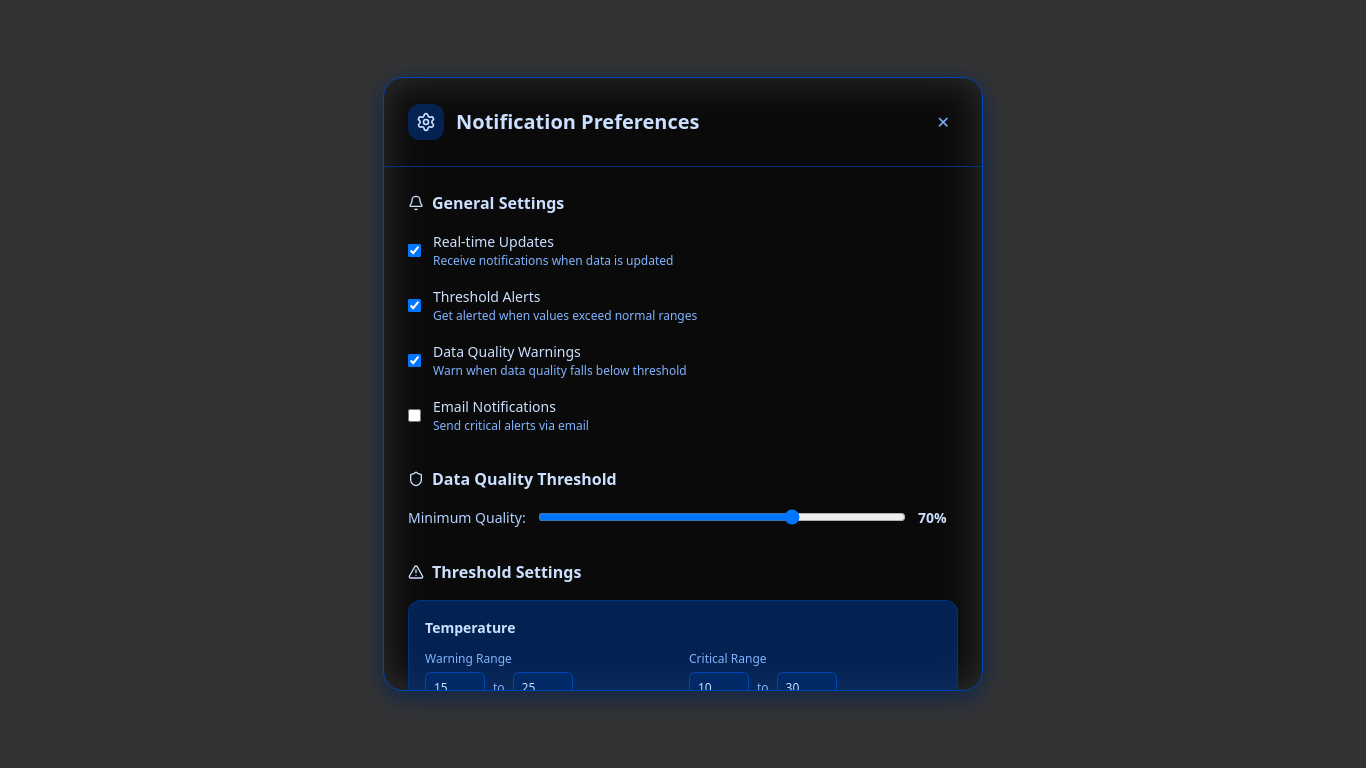
NotificationPreferences › should save changes when save button is clicked
# Make a change
Click the checkbox labelled "Real-time Updates Receive notifications when data is updated": {"x": 414, "y": 250} [408,244,421,257]
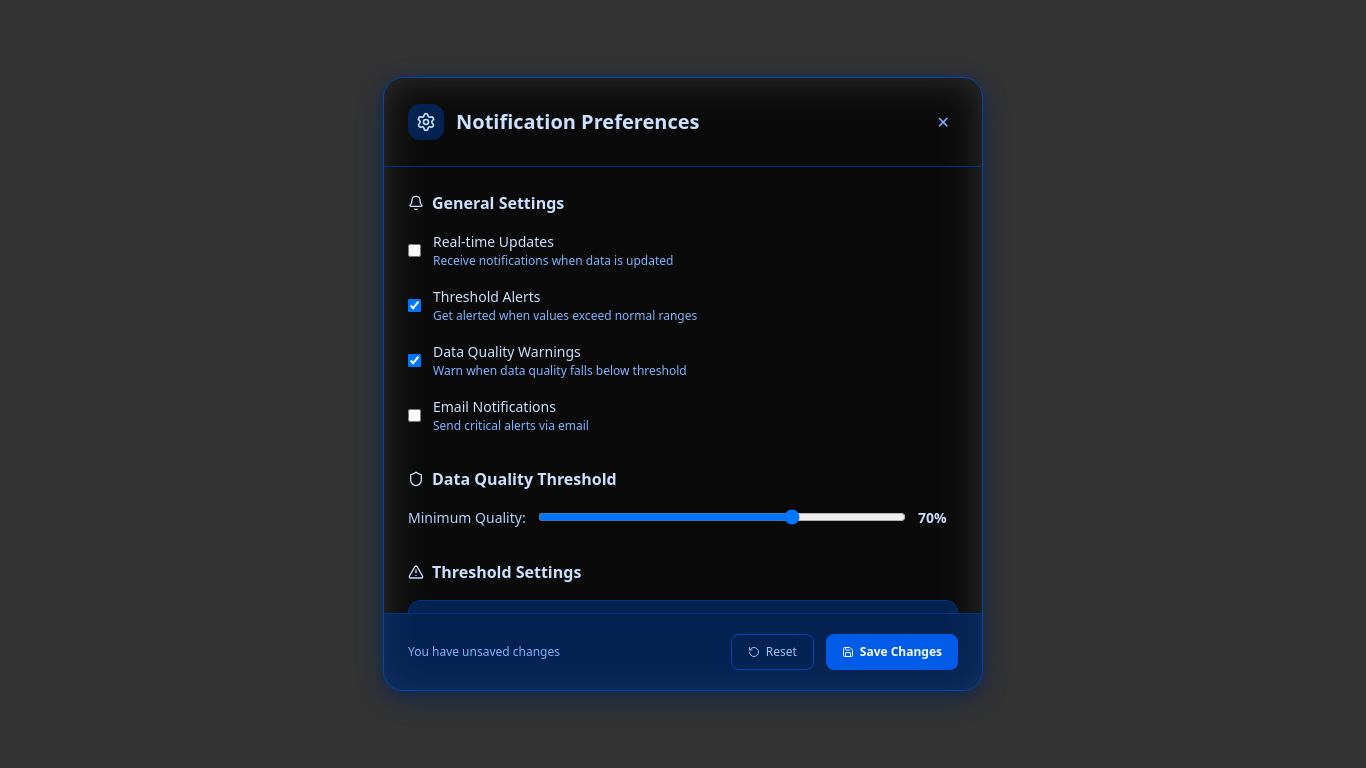
Check: the text "You have unsaved changes" is shown, box [408,643,560,661]
# Save changes
Click the button "Save Changes": {"x": 892, "y": 652} [826,634,958,670]
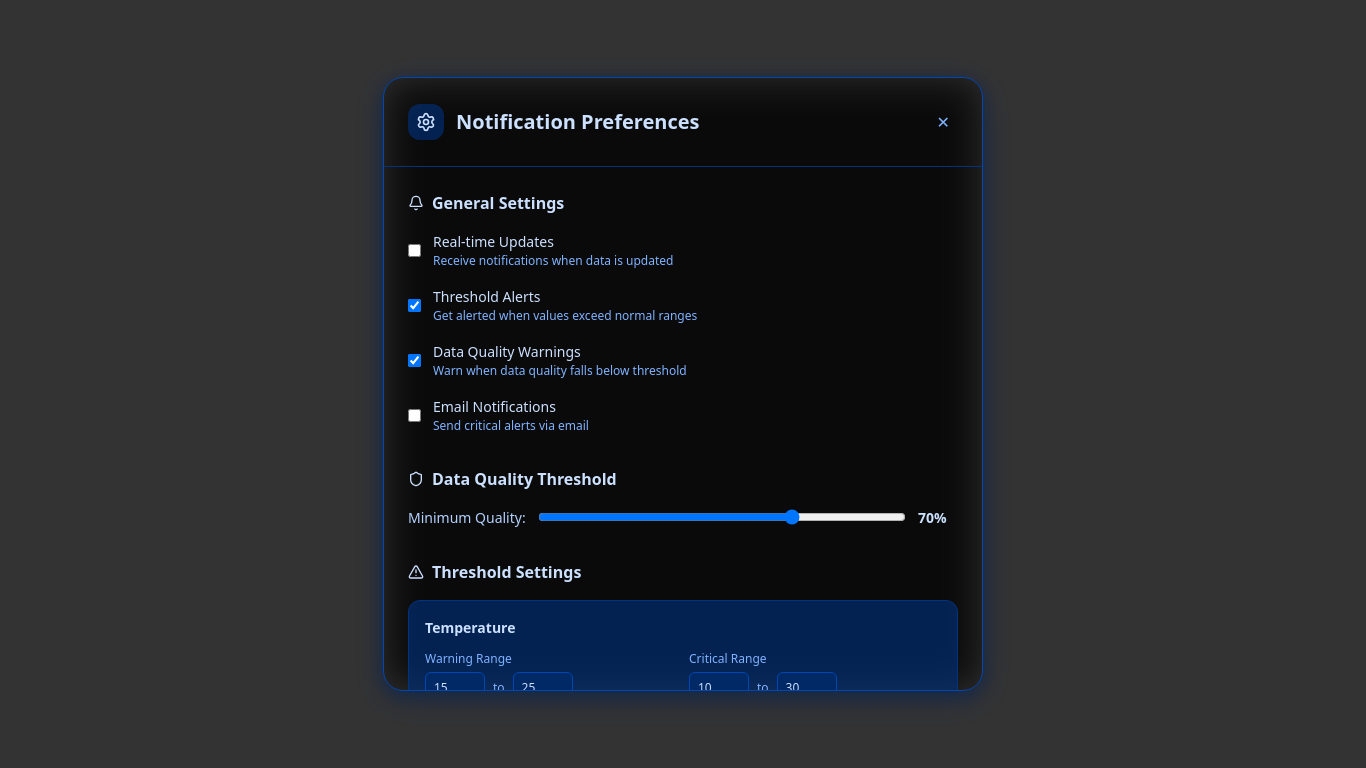
Check: the text "You have unsaved changes" is gone
